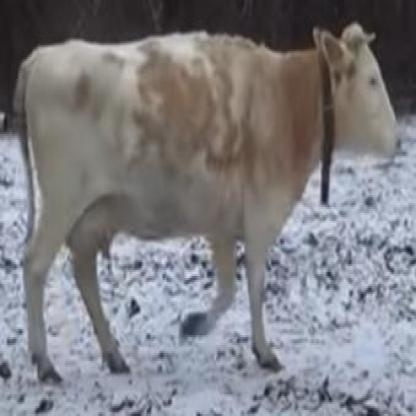cow: (15, 23, 402, 382)
